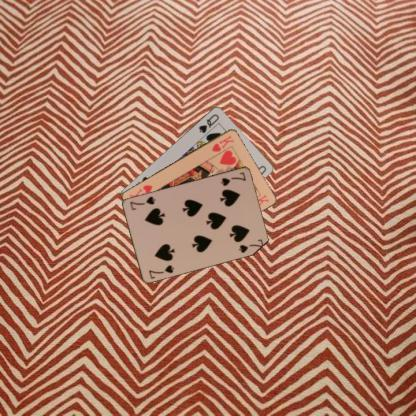7s: (218, 169, 248, 187), (146, 262, 175, 280)
Kh: (209, 132, 235, 153)
Qs: (196, 111, 220, 134)
